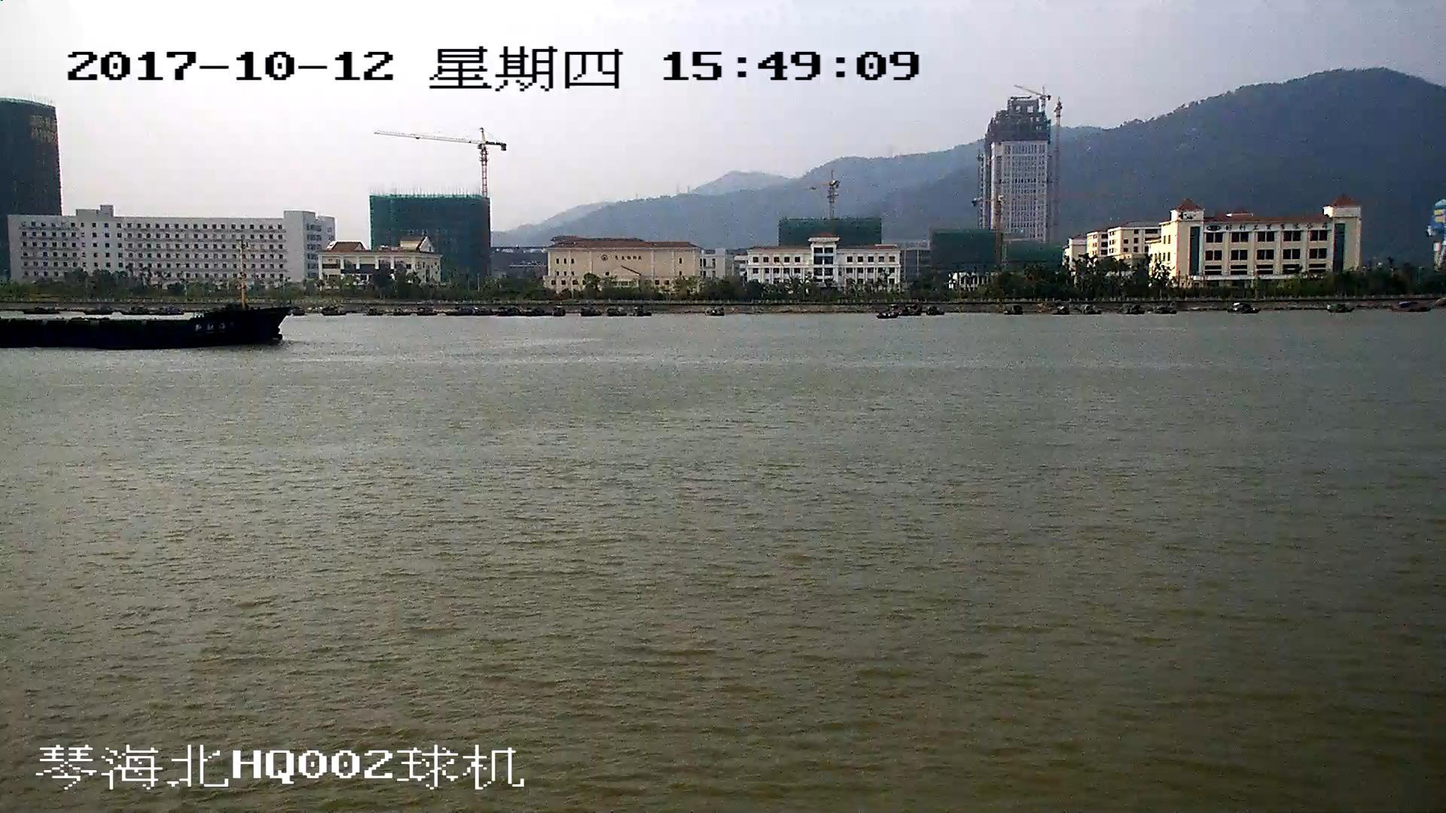general cargo ship: (0, 301, 282, 349)
